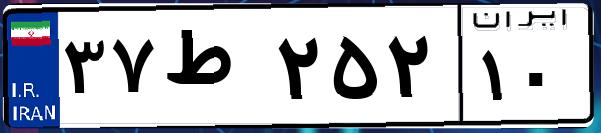0: (525, 38, 570, 115)
1: (475, 38, 525, 113)
2: (270, 28, 330, 110), (385, 28, 445, 110)
3: (57, 26, 110, 100)
5: (330, 28, 385, 110)
7: (110, 28, 158, 98)
ط: (158, 20, 270, 120)
